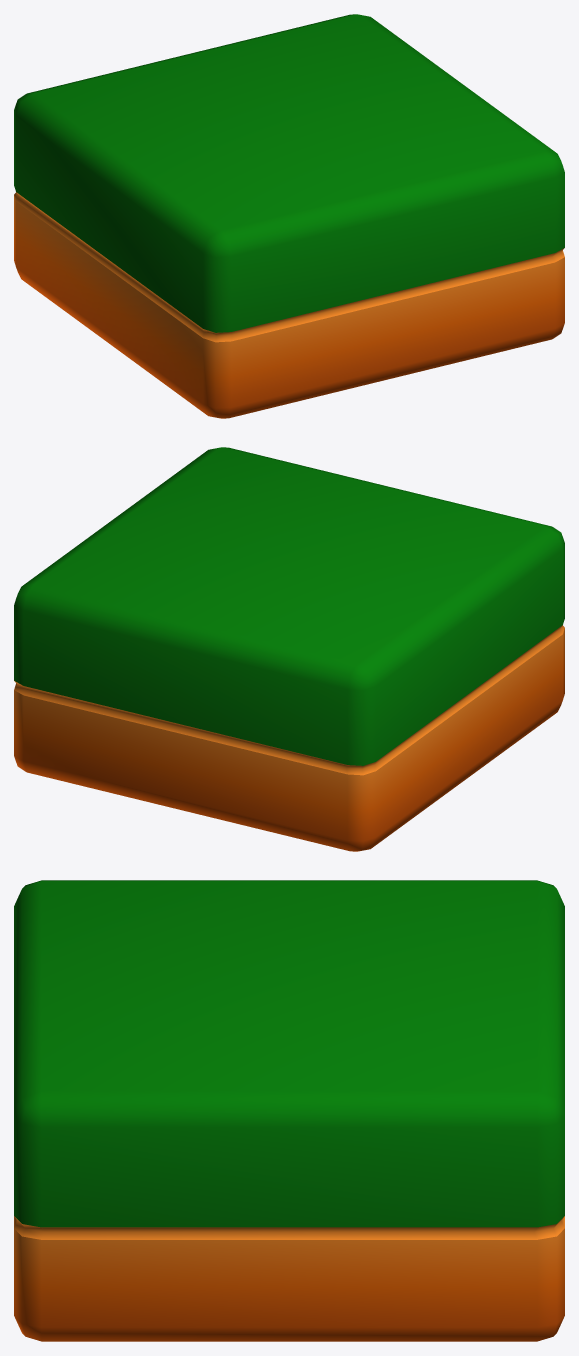
The model's file is 3D_Tile_Ground_01Av02.fbx.
The picture shows the model from 3 angles, top to bottom: view 1: azimuth 30°, elevation 25°; view 2: azimuth 150°, elevation 25°; view 3: azimuth 270°, elevation 25°; orthographic projection. The views are drawn at different scales.
Parts seen in each view (by area): view 1: 3D_Tile_Ground_01Av02; view 2: 3D_Tile_Ground_01Av02; view 3: 3D_Tile_Ground_01Av02.
Part boxes in pixels (x1,y1,x2,y2): 3D_Tile_Ground_01Av02: [14, 14, 564, 418]; 3D_Tile_Ground_01Av02: [14, 447, 564, 851]; 3D_Tile_Ground_01Av02: [14, 880, 564, 1341].
Size of the model in its own units: 200 by 100 by 200.
